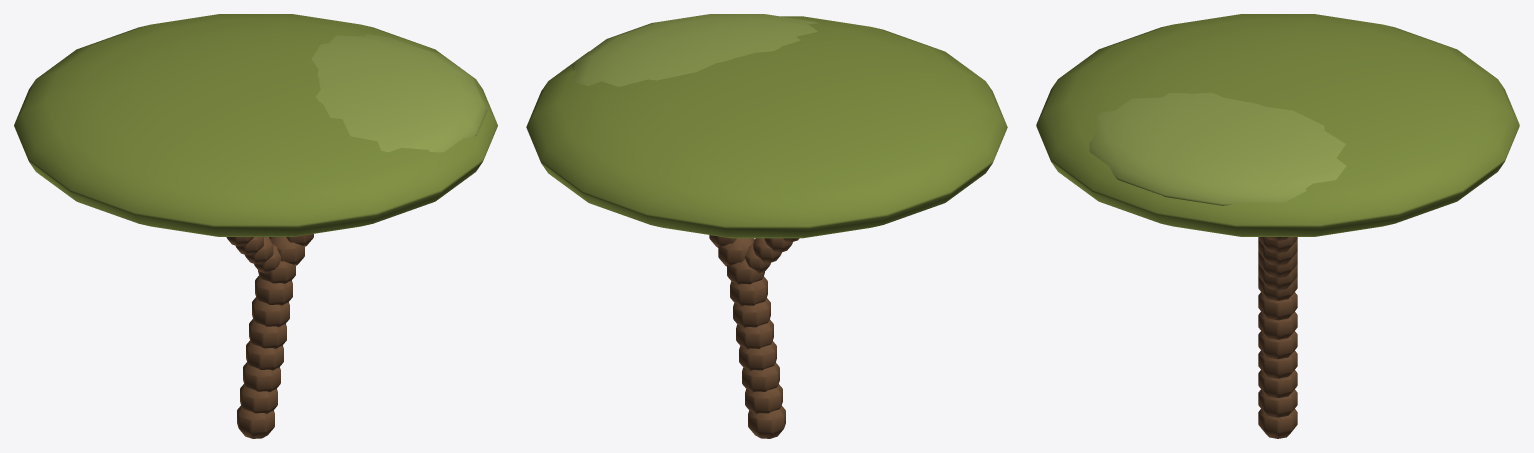
Rendered from veg_acacia.glb.
The picture shows the model from 3 angles, left to right: view 1: azimuth 30°, elevation 25°; view 2: azimuth 150°, elevation 25°; view 3: azimuth 270°, elevation 25°; orthographic projection.
Visible parts, largest first — view 1: veg_acacia; view 2: veg_acacia; view 3: veg_acacia.
Boxes of the visible parts, left/top/right/bottom form: veg_acacia: left=14, top=14, right=497, bottom=438; veg_acacia: left=526, top=14, right=1007, bottom=438; veg_acacia: left=1036, top=14, right=1519, bottom=438.
Bounding box in the file's own units: 5.9 × 4.92 × 5.99.
